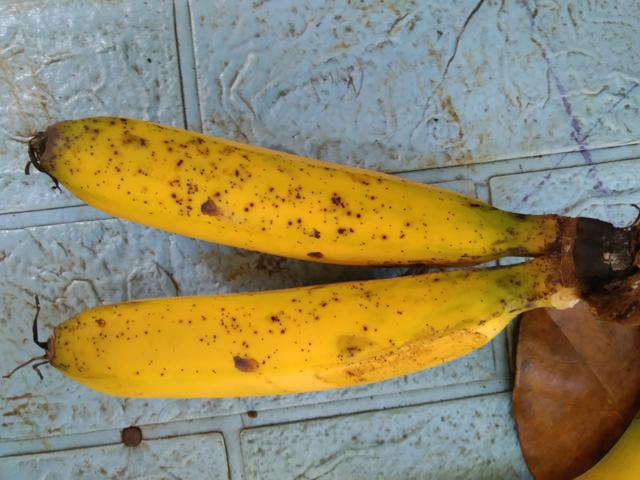ripe: (61, 107, 519, 264), (49, 279, 521, 427)
